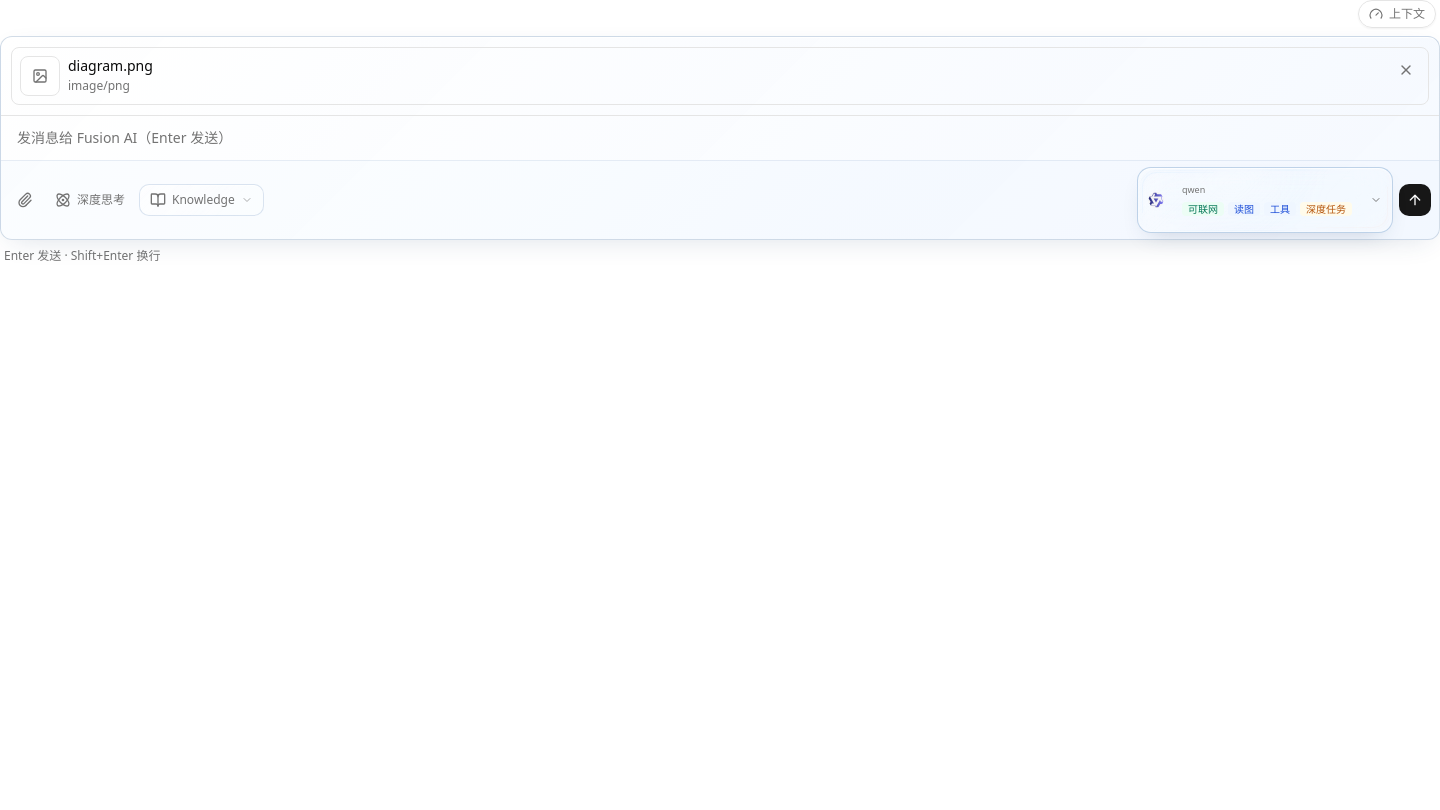
it: ChatInput › 已有附件时也能新增知识库选择
Click the button "Knowledge": (201, 200) [139,184,264,216]
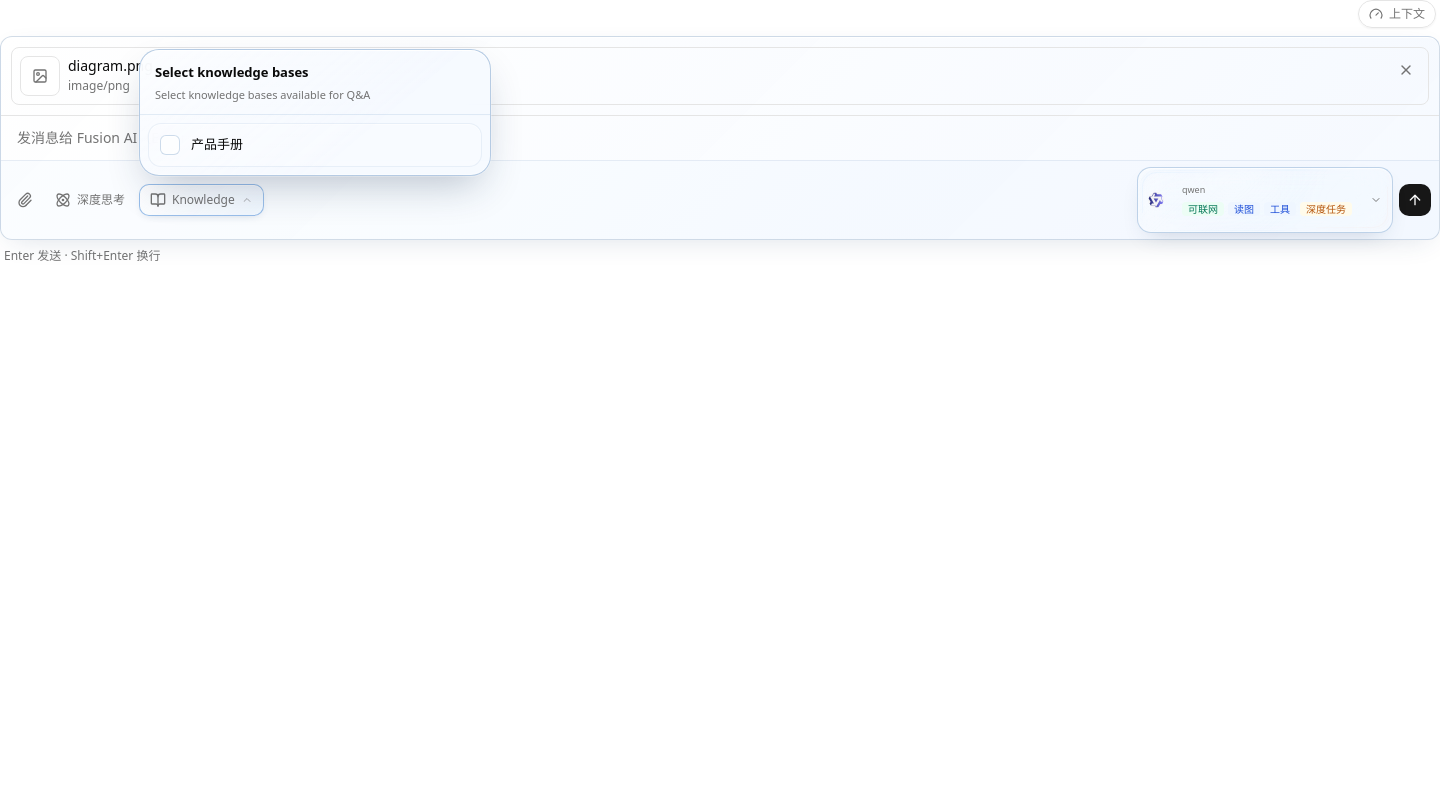
Click the checkbox labelled "产品手册": (217, 144) [148,123,482,167]
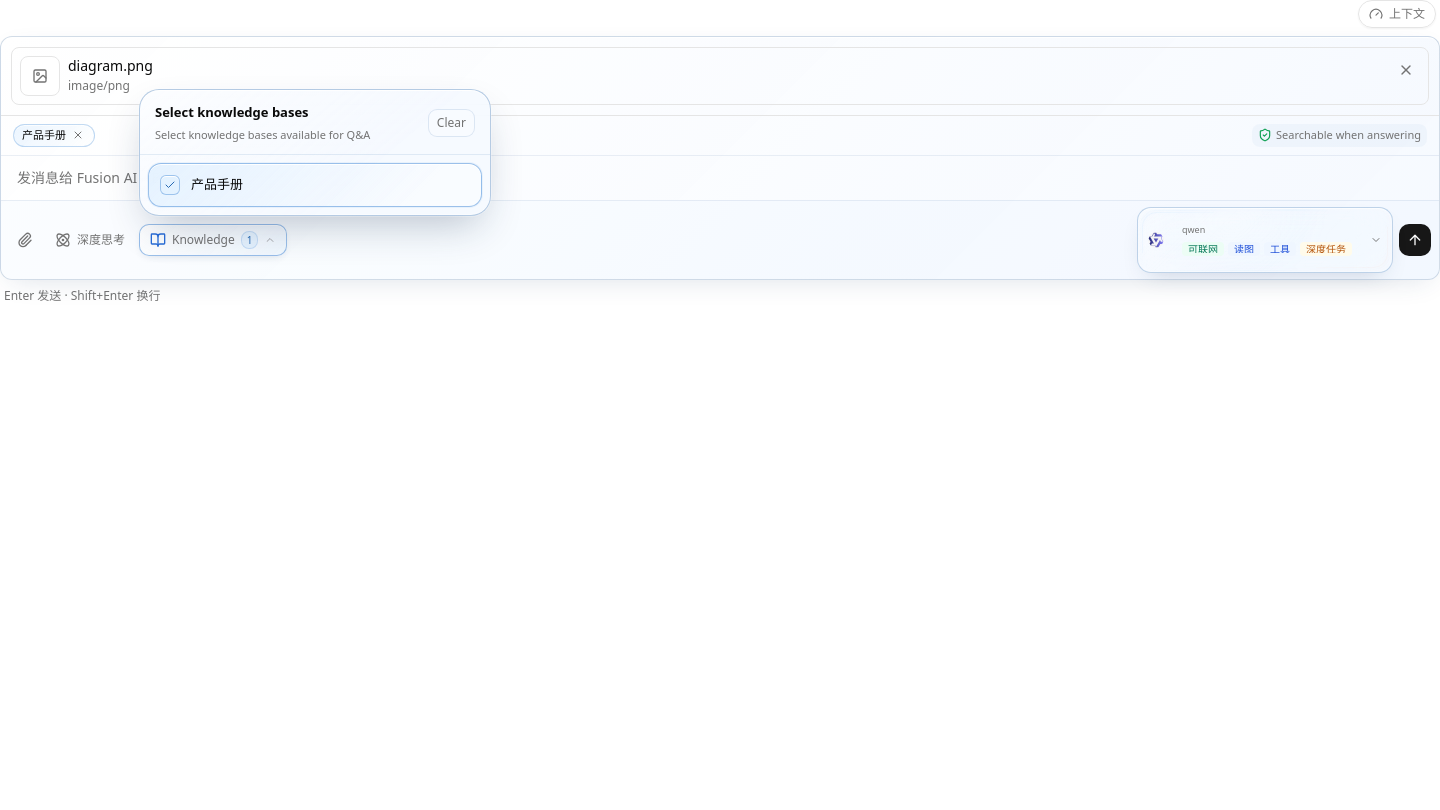
Result: the text "Searchable when answering" is shown at [1252,124,1427,146]
